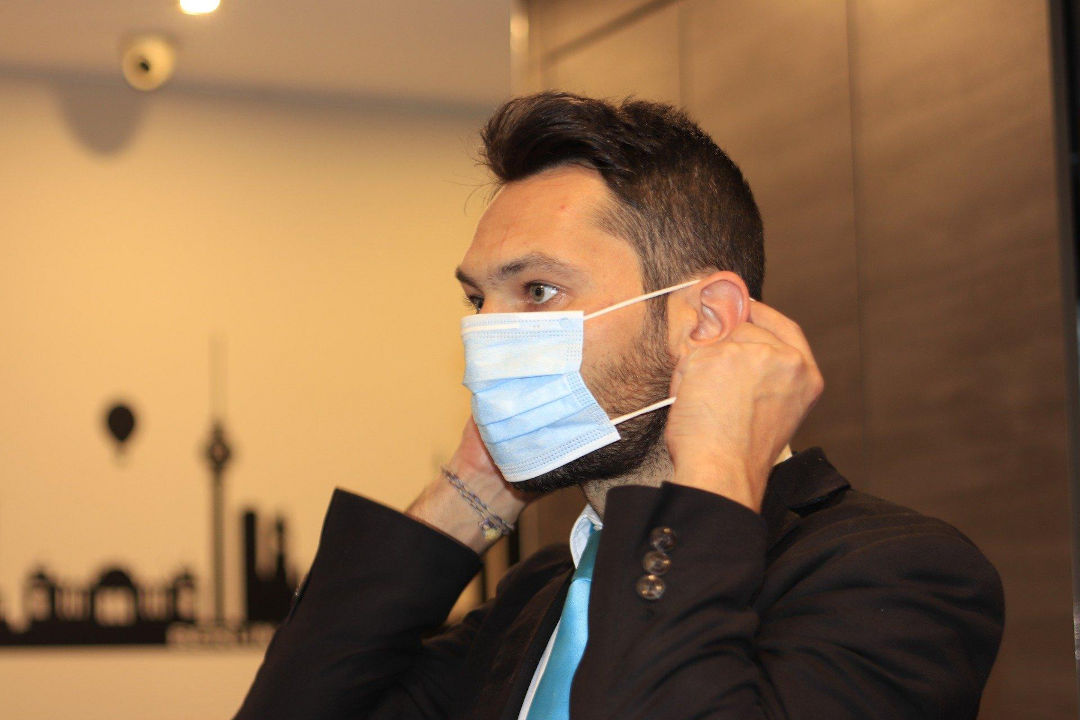with_mask: (442, 209, 696, 490)
